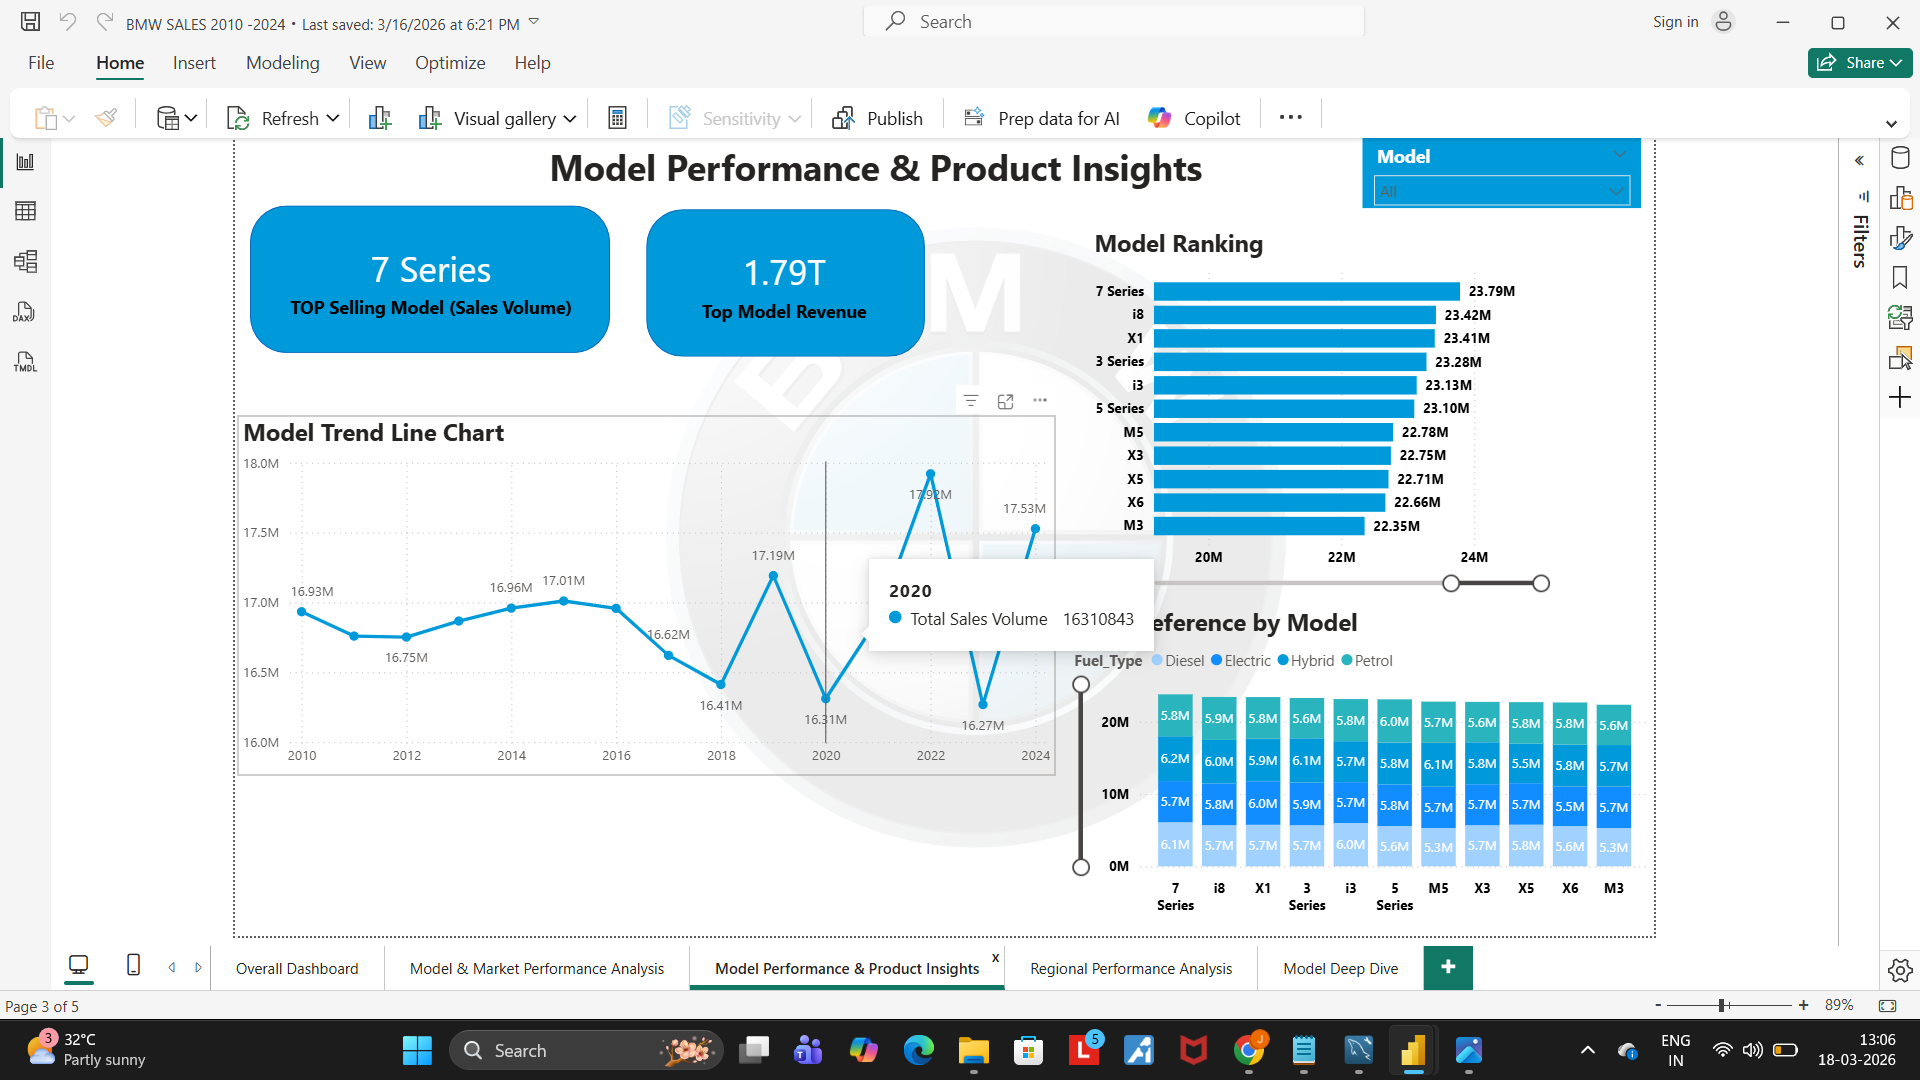

What the dashboard file says about the page in this screenshot:
{"tool":"powerbi","page":{"name":"Model Performance & Product Insights","canvas":[1280,720],"ordinal":2},"visuals":[{"type":"image","box":[322.2,79.6,691.6,559.8],"z":0},{"type":"shape","box":[13.7,61,324.7,133.1],"z":1},{"type":"shape","box":[370.7,64.7,251.3,133.1],"z":2},{"type":"card","title":"by sales volume","fields":{"Values":["Measure.TOP Selling Model"]},"box":[31.1,79.6,291.1,97],"z":3},{"type":"card","fields":{"Values":["Measure.Top Model Revenue"]},"box":[386.9,83.3,217.7,97],"z":4},{"type":"lineChart","title":"Model Trend Line Chart","fields":{"Category":["BMW_Data.Year"],"Y":["Measure.Total Sales Volume"]},"box":[2.5,250,737.7,324.7],"z":5},{"type":"barChart","title":"Model Ranking","fields":{"Category":["Model_Table.Model"],"Y":["Measure.Total Sales Volume"]},"box":[770,79.6,488.9,332.1],"z":6},{"type":"columnChart","title":"Fuel Preference by Model","fields":{"Category":["Model_Table.Model"],"Series":["BMW_Data.Fuel_Type"],"Y":["Measure.Total Sales Volume"]},"box":[751.4,421.7,528.7,286.1],"z":7},{"type":"textbox","box":[265,0,625.7,61],"z":8},{"type":"slicer","fields":{"Values":["Model_Table.Model"]},"box":[1016.3,0,251.3,63.4],"z":9}]}

Visuals, with their boxes on the page's 1280x720 design canvas (x1, y1, x2, y2). These are canvas units, not pixel positions in the 1920x1080 screenshot, which may show the page scaled, cropped or inside an application window:
image: locate(322, 80, 1014, 639)
shape: locate(14, 61, 338, 194)
shape: locate(371, 65, 622, 198)
"by sales volume" card: locate(31, 80, 322, 177)
card - Measure.Top Model Revenue: locate(387, 83, 605, 180)
"Model Trend Line Chart" lineChart: locate(2, 250, 740, 575)
"Model Ranking" barChart: locate(770, 80, 1259, 412)
"Fuel Preference by Model" columnChart: locate(751, 422, 1280, 708)
textbox: locate(265, 0, 891, 61)
slicer - Model_Table.Model: locate(1016, 0, 1268, 63)
